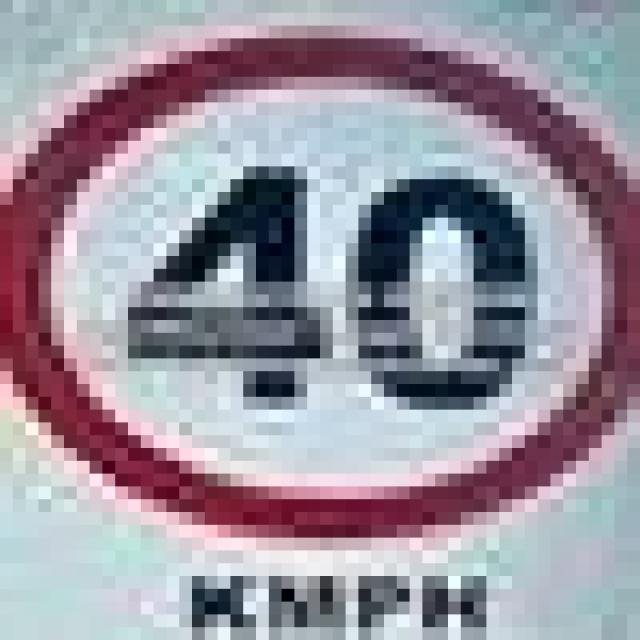falling_rocks: (0, 13, 627, 525)
